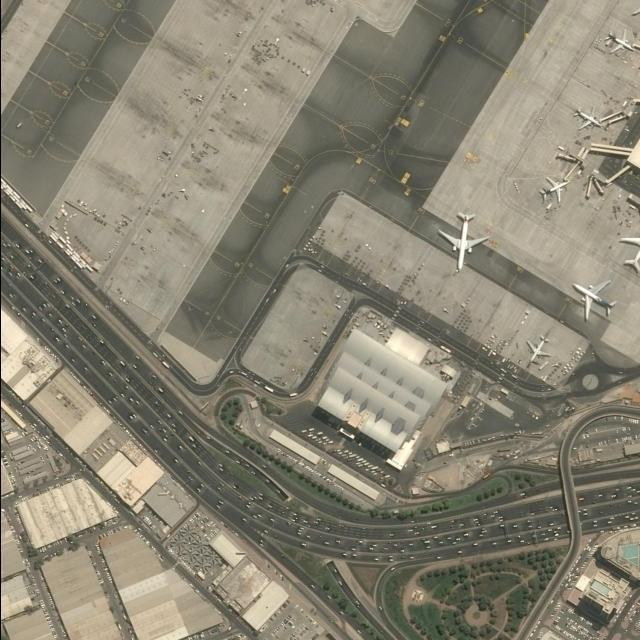Aircraft: (433, 214, 484, 272), (570, 279, 615, 323), (617, 224, 640, 274), (601, 29, 633, 60), (571, 108, 602, 134), (538, 178, 566, 206), (525, 338, 548, 367), (615, 0, 639, 19)
